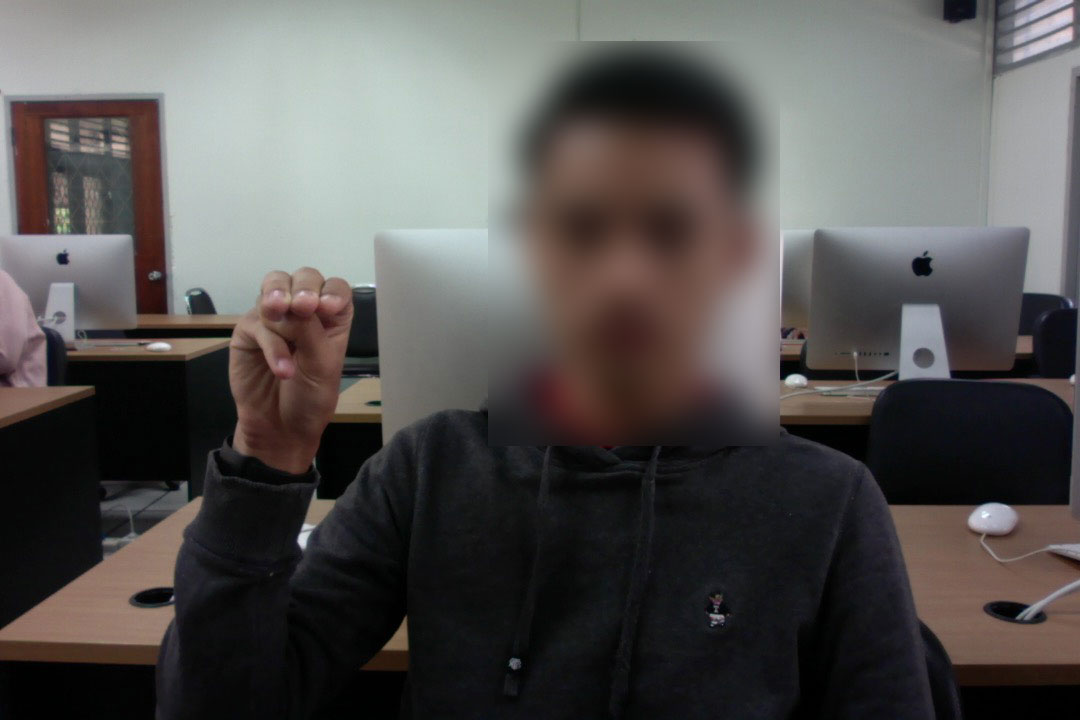mor: (217, 248, 363, 444)
